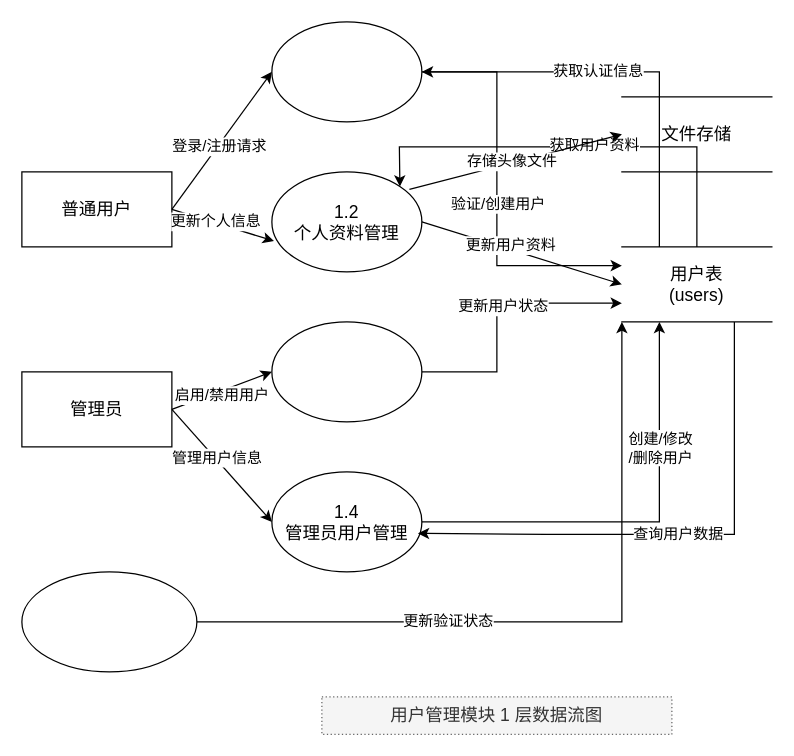
This 794x756 diagram has some shape labels left out. Here are the shapes that lost their labels. From the top down, the centre of each, then its label:
point (346, 71): 1.1 用户认证
point (346, 371): 1.3 用户状态管理
point (109, 621): 1.5 用户验证状态管理
